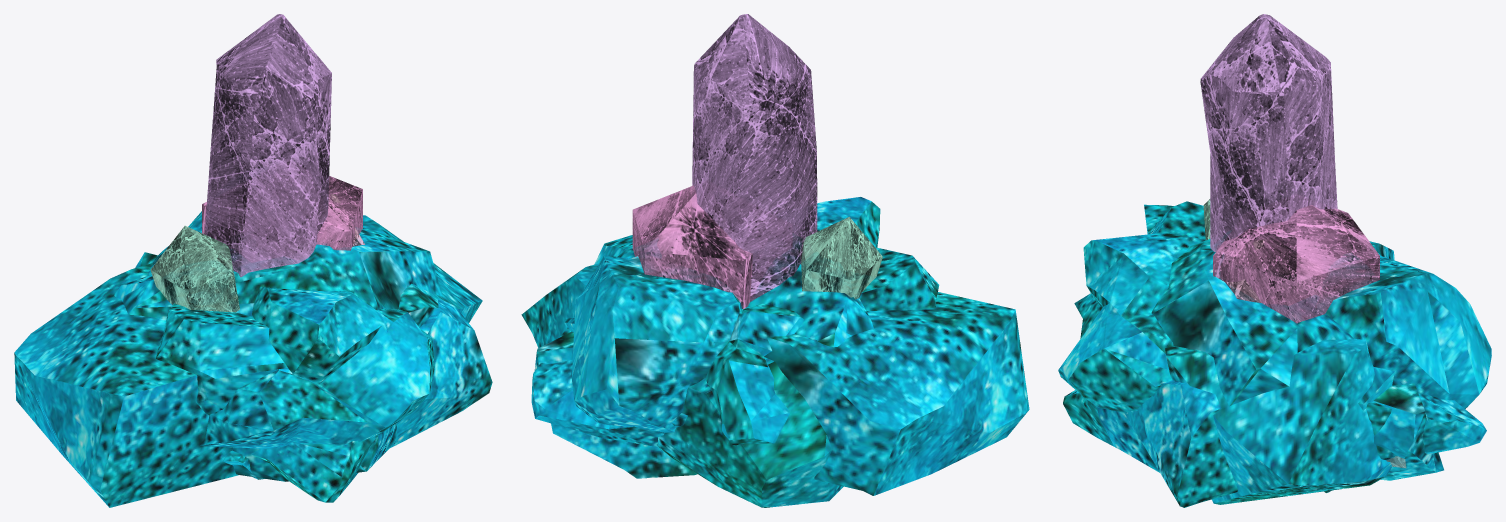
Rendered from snow64-obstacles.glb.
3 views of the same model, side by side, from view 1: azimuth 30°, elevation 25°; view 2: azimuth 150°, elevation 25°; view 3: azimuth 270°, elevation 25° (orthographic). The views are drawn at different scales.
Visible parts, largest first — view 1: Obstacle_Rock2, Obstacle_RockCrystal1, Obstacle_Rock4, Obstacle_Rock1, Obstacle_Rock3, Obstacle_Rock6, Obstacle_Crystals2; view 2: Obstacle_Rock2, Obstacle_Rock4, Obstacle_RockCrystal1, Obstacle_Rock1, Obstacle_Crystals2, Obstacle_Rock6, Obstacle_Rock3; view 3: Obstacle_Rock4, Obstacle_RockCrystal1, Obstacle_Rock2, Obstacle_Rock1, Obstacle_Rock3, Obstacle_Crystals2, Obstacle_Rock6, Obstacle_RockCrystal2.
Boxes of the visible parts, bbox=[...] form: Obstacle_Rock2: bbox=[14, 215, 482, 507]; Obstacle_RockCrystal1: bbox=[204, 14, 331, 277]; Obstacle_Rock4: bbox=[135, 211, 434, 448]; Obstacle_Rock1: bbox=[114, 227, 442, 481]; Obstacle_Rock3: bbox=[251, 298, 492, 502]; Obstacle_Rock6: bbox=[156, 303, 288, 415]; Obstacle_Crystals2: bbox=[150, 176, 362, 312]; Obstacle_Rock2: bbox=[521, 263, 1029, 495]; Obstacle_Rock4: bbox=[572, 197, 880, 445]; Obstacle_RockCrystal1: bbox=[692, 14, 817, 301]; Obstacle_Rock1: bbox=[564, 235, 873, 507]; Obstacle_Crystals2: bbox=[632, 185, 882, 309]; Obstacle_Rock6: bbox=[534, 247, 939, 478]; Obstacle_Rock3: bbox=[531, 327, 687, 446]; Obstacle_Rock4: bbox=[1058, 233, 1491, 492]; Obstacle_RockCrystal1: bbox=[1200, 14, 1337, 251]; Obstacle_Rock2: bbox=[1144, 204, 1394, 504]; Obstacle_Rock1: bbox=[1097, 239, 1394, 472]; Obstacle_Rock3: bbox=[1063, 380, 1486, 507]; Obstacle_Crystals2: bbox=[1203, 199, 1379, 323]; Obstacle_Rock6: bbox=[1147, 201, 1443, 480]; Obstacle_RockCrystal2: bbox=[1225, 240, 1264, 302].
Bounding box in the file's own units: 0.4675 × 0.4199 × 0.3738.
7 materials, 7 textured.
